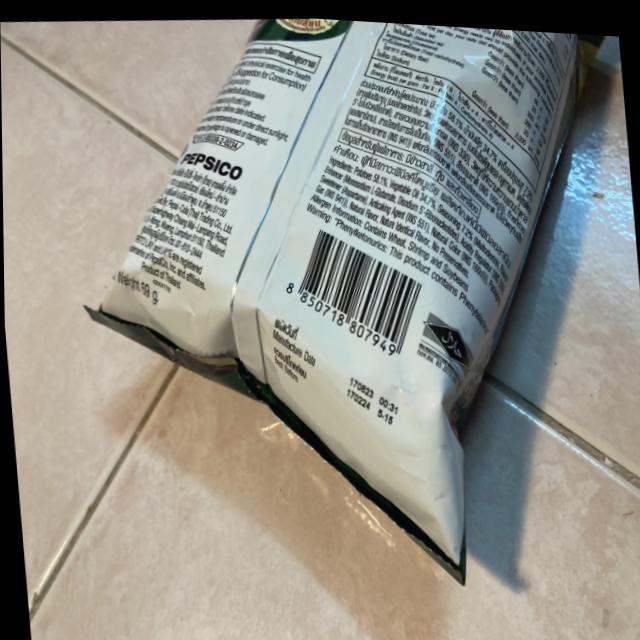Laygreen: (63, 3, 640, 613)
